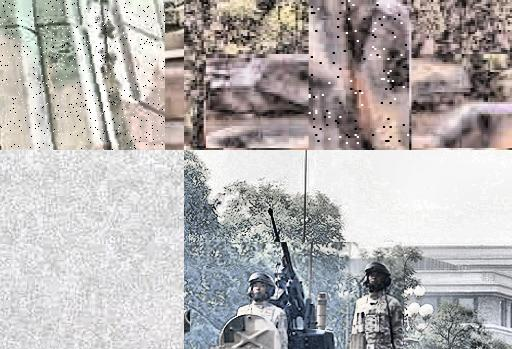tanks: (1, 1, 165, 151), (310, 1, 410, 151), (275, 243, 334, 349), (218, 317, 277, 349), (353, 343, 362, 349)
